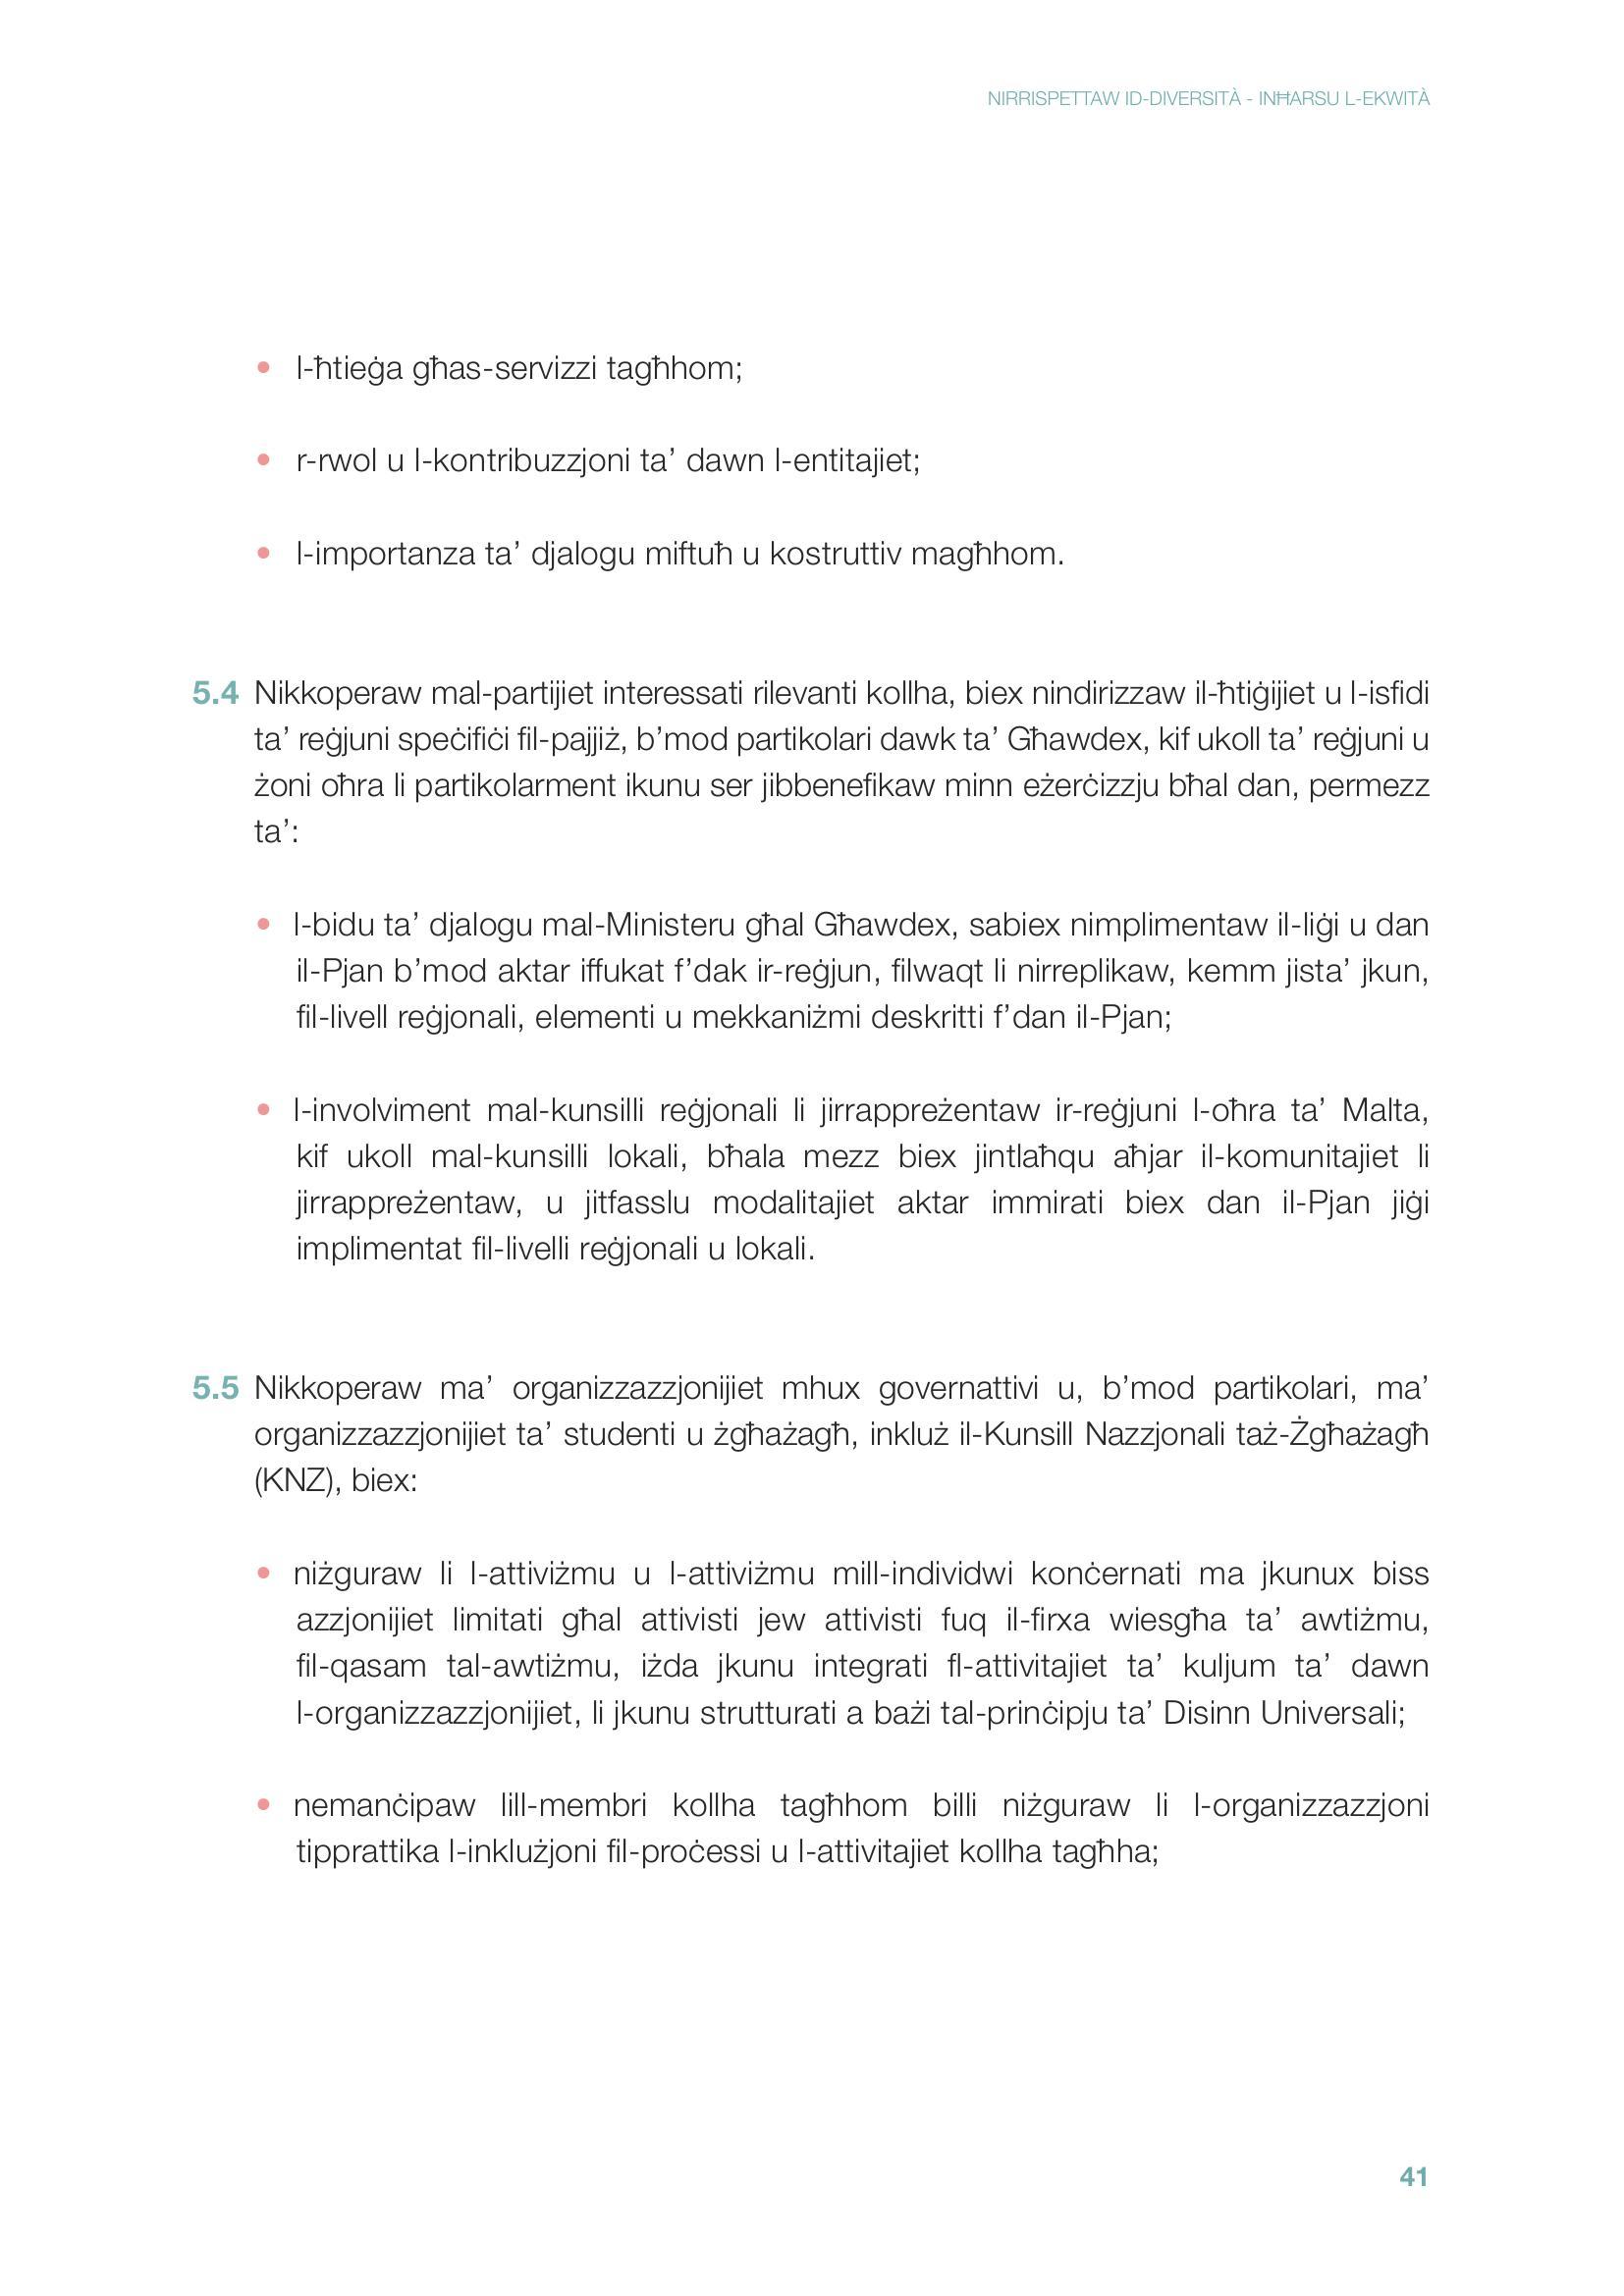text: (174, 330, 1446, 1897)
